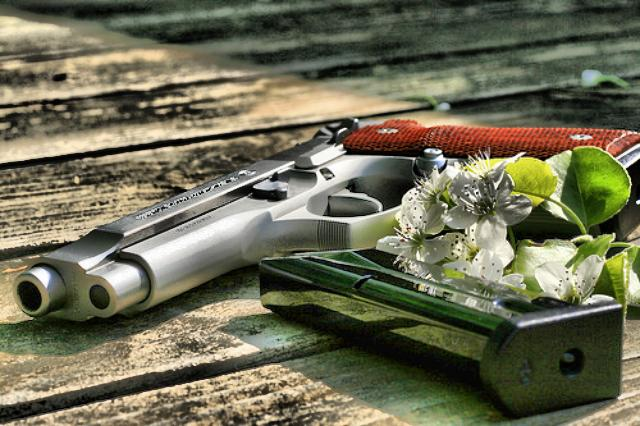pistol: (11, 116, 638, 324)
